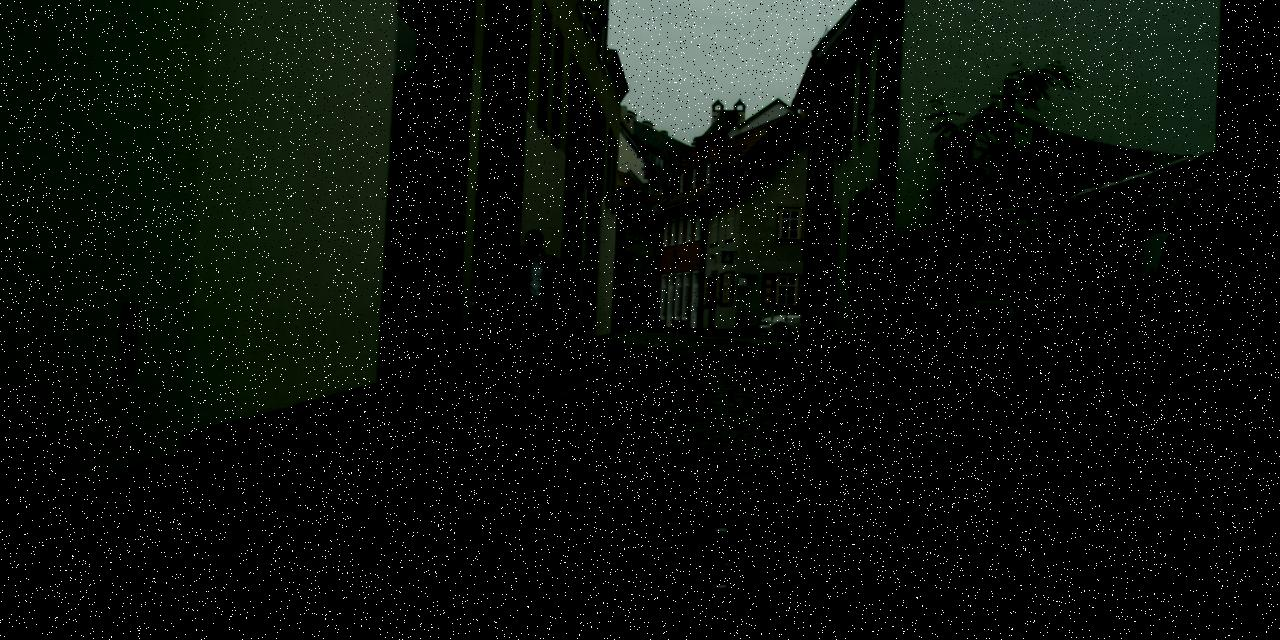ped: (502, 229, 570, 395), (468, 235, 531, 388)
